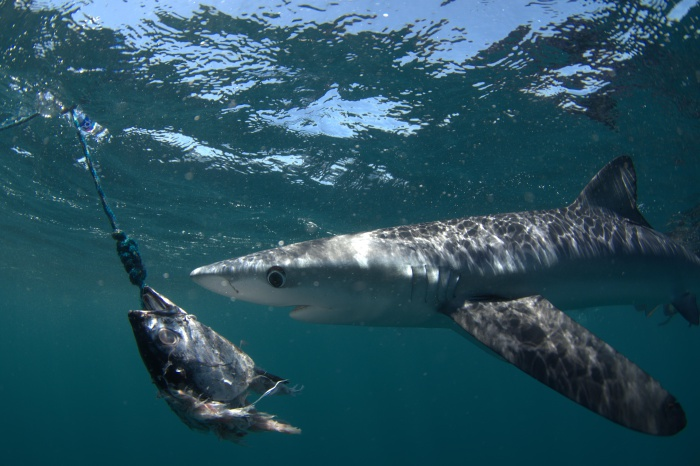Azul: (183, 153, 700, 436)
